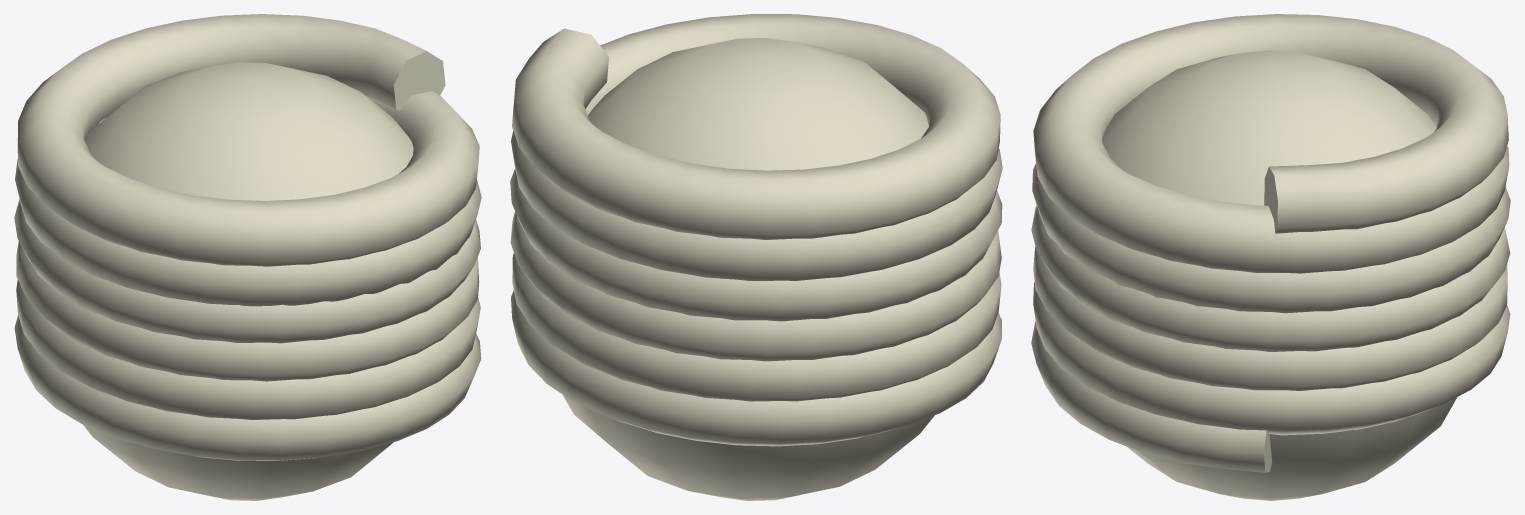
The model's file is scavengers-loot-library-twine-ball-c90a9d82__2606.glb.
3 renders of one model, left to right at view 1: azimuth 30°, elevation 25°; view 2: azimuth 150°, elevation 25°; view 3: azimuth 270°, elevation 25°, orthographic. The views are drawn at different scales.
Visible parts, largest first — view 1: twine-ball; view 2: twine-ball; view 3: twine-ball.
Boxes of the visible parts, x1=… form: twine-ball: x1=14, y1=14, x2=481, y2=500; twine-ball: x1=510, y1=14, x2=1002, y2=500; twine-ball: x1=1031, y1=14, x2=1510, y2=500.
Size of the model in its own units: 0.1014 by 0.096 by 0.1014.
